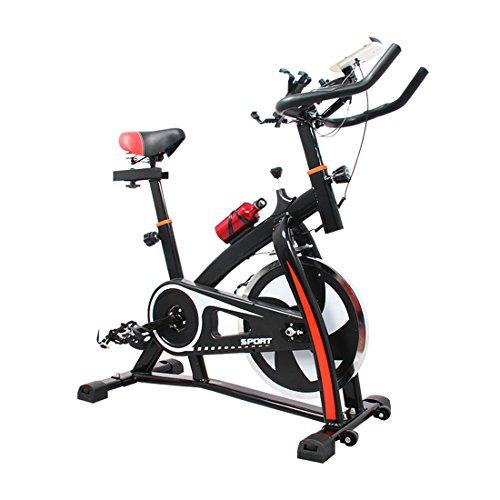gym_bike: (73, 43, 432, 468)
